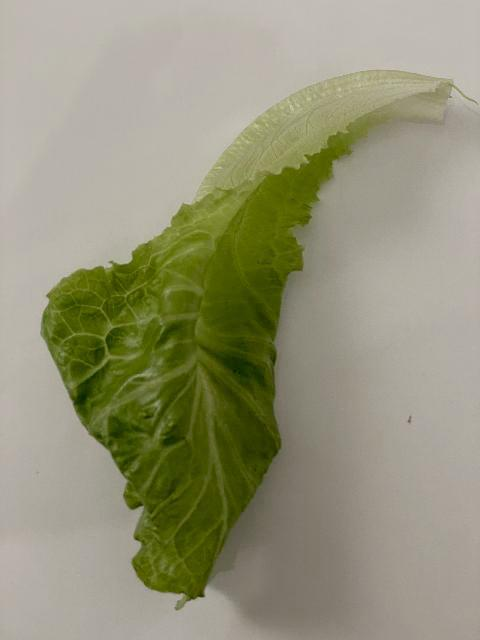lettuce: (37, 68, 455, 602)
